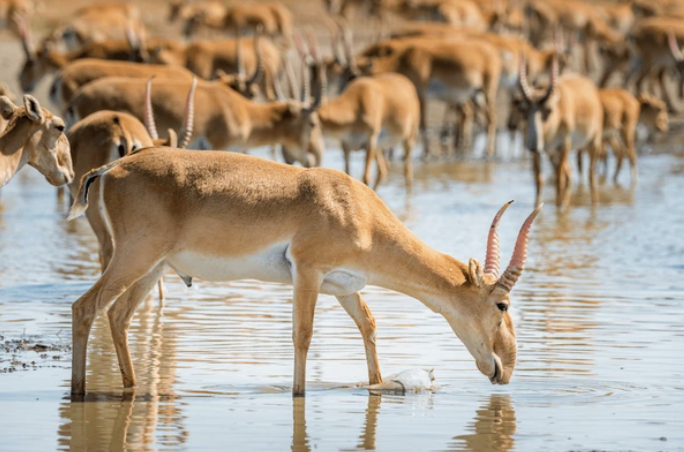saiga: (57, 149, 542, 437)
